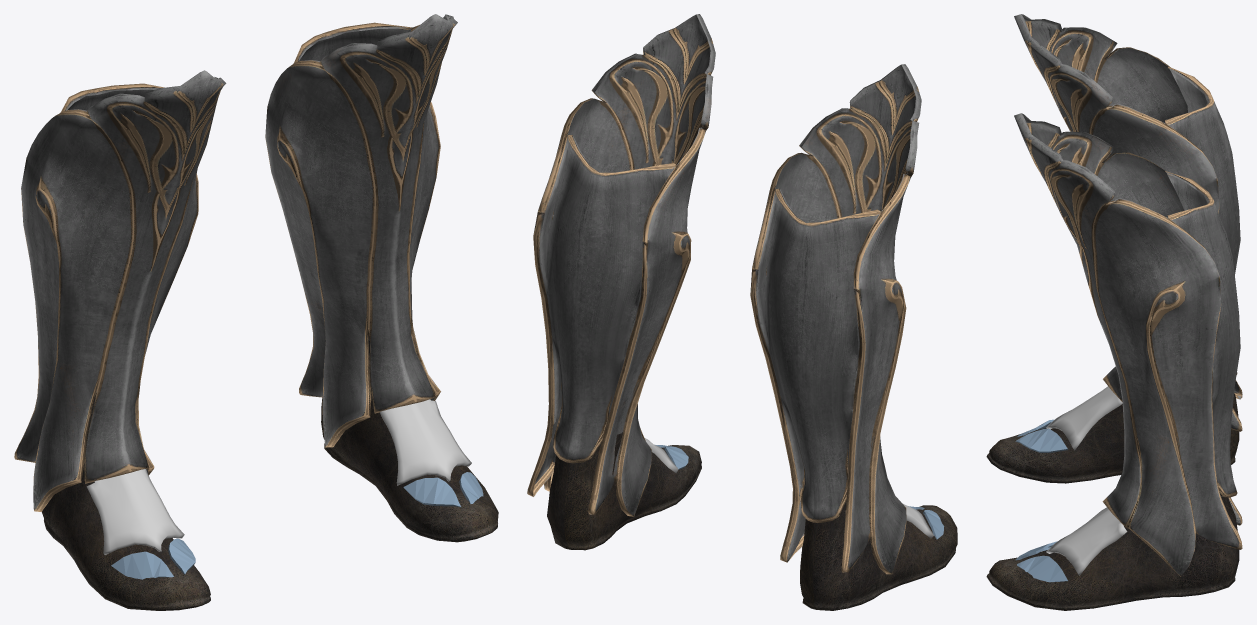
Rendered from mkwd_inf3_greave_silver.fbx.
3 renders of one model, left to right at view 1: azimuth 30°, elevation 25°; view 2: azimuth 150°, elevation 25°; view 3: azimuth 270°, elevation 25°, orthographic. The views are drawn at different scales.
Parts seen in each view (by area): view 1: mkwd_inf3_greave_silver.lod0.2, mkwd_inf3_greave_silver.lod0.1, mkwd_inf3_greave_silver.lod0.0; view 2: mkwd_inf3_greave_silver.lod0.2, mkwd_inf3_greave_silver.lod0.1, mkwd_inf3_greave_silver.lod0.0; view 3: mkwd_inf3_greave_silver.lod0.2, mkwd_inf3_greave_silver.lod0.1, mkwd_inf3_greave_silver.lod0.0.
Part boxes in pixels (x1=…): mkwd_inf3_greave_silver.lod0.2: x1=14, y1=14, x2=457, y2=511; mkwd_inf3_greave_silver.lod0.1: x1=42, y1=333, x2=498, y2=610; mkwd_inf3_greave_silver.lod0.0: x1=86, y1=391, x2=483, y2=579; mkwd_inf3_greave_silver.lod0.2: x1=527, y1=14, x2=921, y2=574; mkwd_inf3_greave_silver.lod0.1: x1=547, y1=432, x2=957, y2=610; mkwd_inf3_greave_silver.lod0.0: x1=644, y1=438, x2=944, y2=539; mkwd_inf3_greave_silver.lod0.2: x1=1014, y1=14, x2=1242, y2=576; mkwd_inf3_greave_silver.lod0.1: x1=986, y1=393, x2=1239, y2=610; mkwd_inf3_greave_silver.lod0.0: x1=1015, y1=386, x2=1127, y2=582.
Bounding box in the file's own units: 0.4602 × 0.2963 × 0.599.
